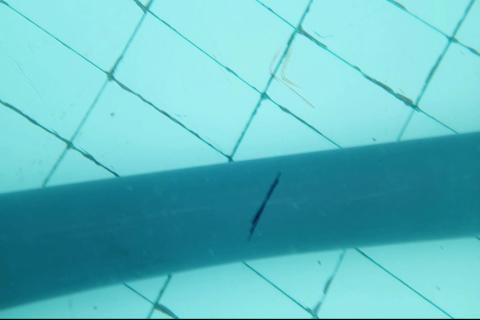keretakan: (246, 171, 283, 242)
